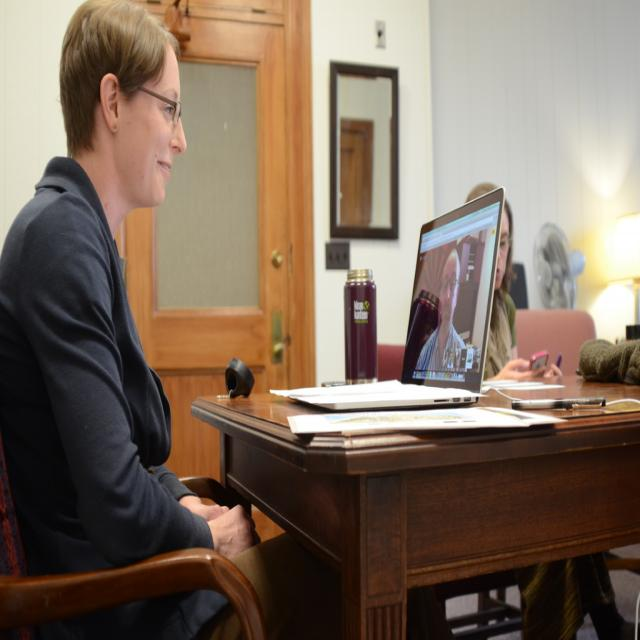chair: (0, 421, 266, 638)
desk: (191, 366, 640, 640)
laptop: (277, 187, 504, 411)
person: (0, 0, 288, 623), (484, 194, 554, 386)
